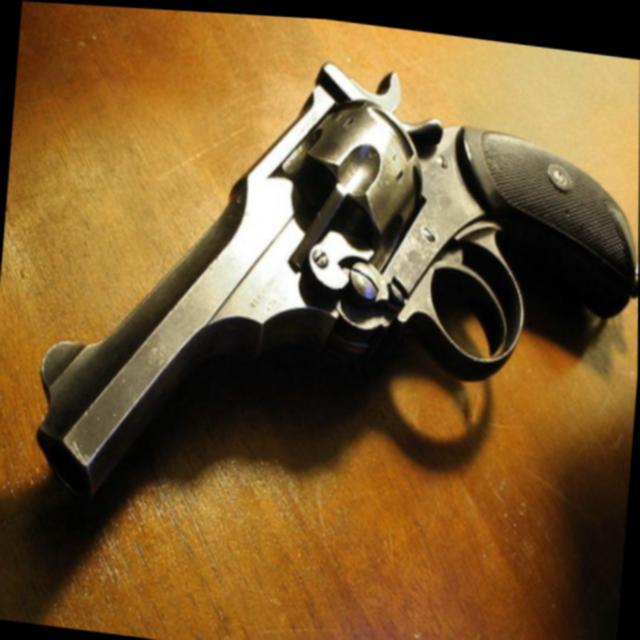weapon: (29, 19, 640, 560)
